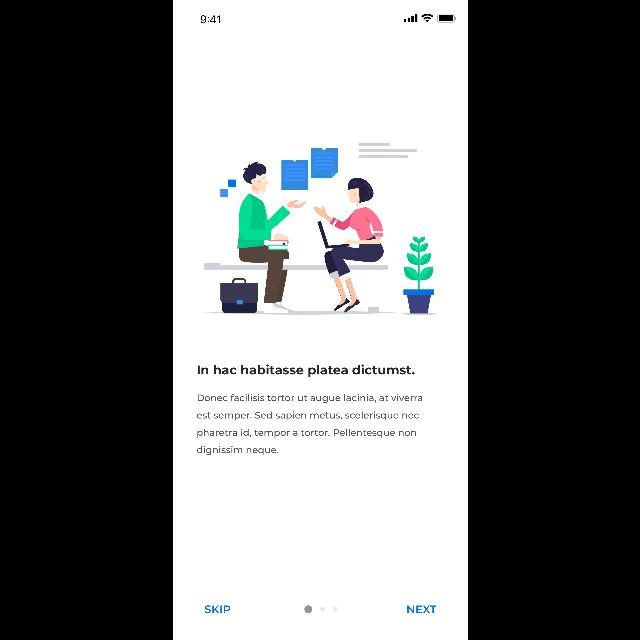image: (203, 143, 437, 315)
pageindicator: (304, 605, 336, 613)
text: (196, 394, 422, 456), (196, 365, 414, 377), (406, 605, 436, 613), (204, 605, 230, 613)
uppertaskbar: (200, 14, 456, 24)
